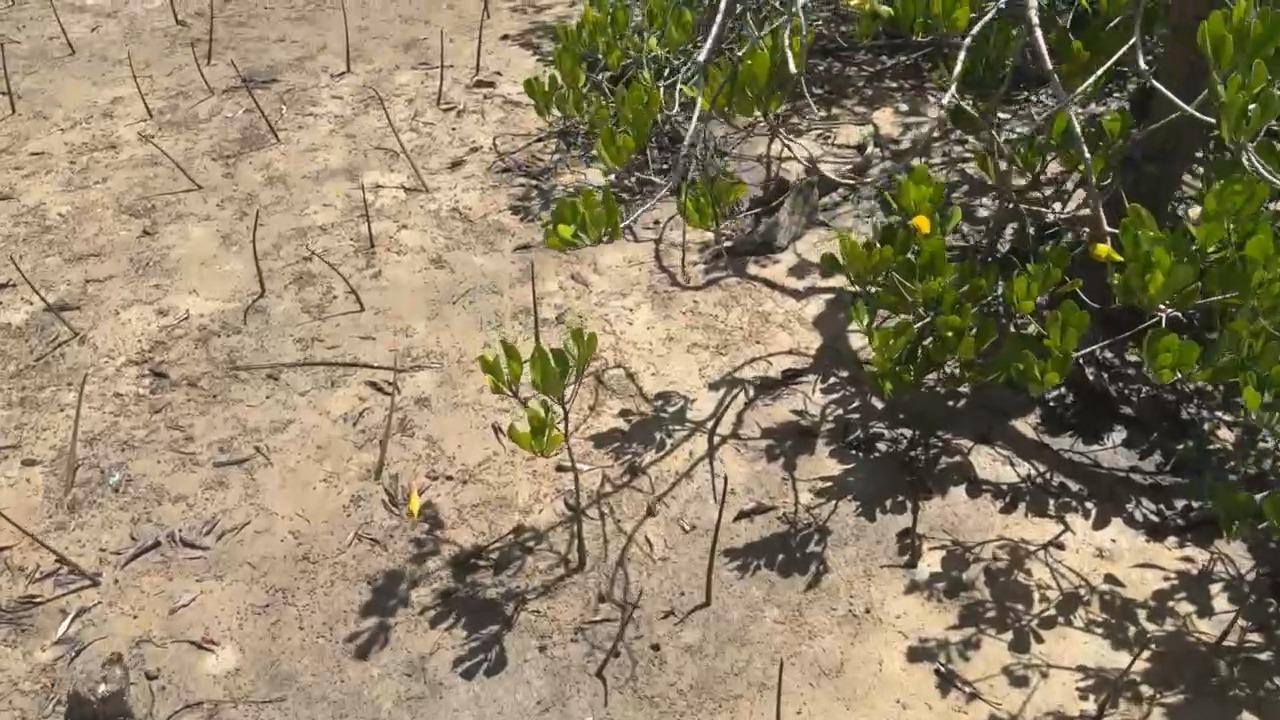Tree: (470, 323, 598, 572), (672, 165, 747, 277), (0, 510, 102, 585), (360, 84, 429, 193), (8, 255, 79, 336), (593, 585, 644, 676), (230, 58, 282, 142), (1092, 644, 1147, 720), (305, 243, 365, 312), (136, 131, 204, 189), (703, 473, 728, 604), (374, 352, 399, 480), (127, 48, 153, 118), (1208, 609, 1246, 650), (50, 0, 76, 54), (191, 41, 215, 95), (251, 207, 266, 293), (0, 43, 16, 115), (474, 0, 488, 77), (360, 181, 375, 249), (529, 259, 540, 345), (341, 0, 351, 73), (436, 28, 444, 107), (206, 0, 215, 68), (775, 656, 782, 720), (169, 0, 179, 25), (11, 0, 15, 6)
